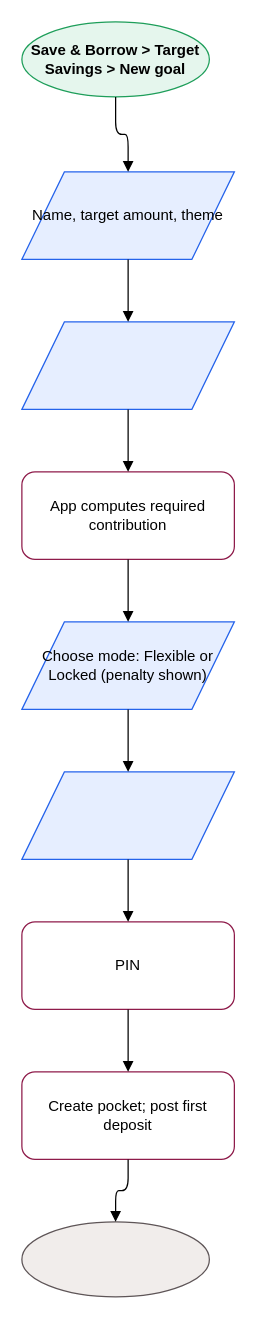
Some shapes in this 256 by 1319 pixel diagram are drawn without their labels. Each missing label, with the centre of its shape:
"Choose deadline or contribution schedule" belongs at pixel 127 365.
"Choose funding: auto-save with consent and/or first top-up" belongs at pixel 127 815.
"Goal active" belongs at pixel 115 1259.
